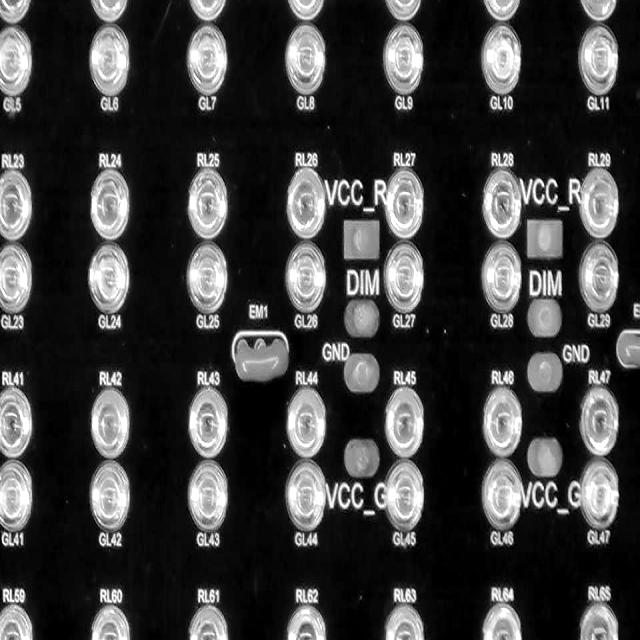EMC filter: (234, 327, 292, 388), (620, 322, 640, 372)
led: (76, 28, 138, 98), (179, 160, 235, 237), (474, 454, 524, 534), (181, 385, 231, 464), (280, 20, 330, 97), (181, 241, 232, 316), (282, 241, 332, 316), (86, 168, 136, 243), (480, 20, 527, 99), (86, 385, 134, 462), (84, 458, 132, 534), (577, 380, 622, 460), (576, 164, 622, 241), (476, 243, 524, 316), (183, 29, 234, 96), (286, 462, 332, 536), (182, 466, 232, 534), (381, 166, 427, 239), (577, 239, 619, 318), (578, 461, 623, 532), (383, 384, 427, 456), (479, 168, 523, 239), (85, 245, 129, 316), (476, 393, 524, 458), (0, 452, 37, 534), (290, 383, 330, 458), (0, 21, 37, 101), (384, 24, 424, 95), (578, 27, 620, 94), (384, 245, 426, 312), (0, 240, 37, 315), (0, 385, 39, 456), (286, 172, 326, 241), (0, 173, 37, 246), (388, 461, 424, 532), (294, 245, 326, 320), (475, 599, 527, 640), (573, 599, 621, 640), (86, 602, 134, 640), (282, 602, 329, 640), (384, 602, 426, 640), (278, 0, 330, 27), (188, 605, 228, 640), (477, 0, 522, 27), (0, 609, 39, 640), (85, 0, 131, 25), (574, 0, 621, 24), (381, 0, 425, 25), (187, 0, 230, 25), (0, 0, 32, 31)
